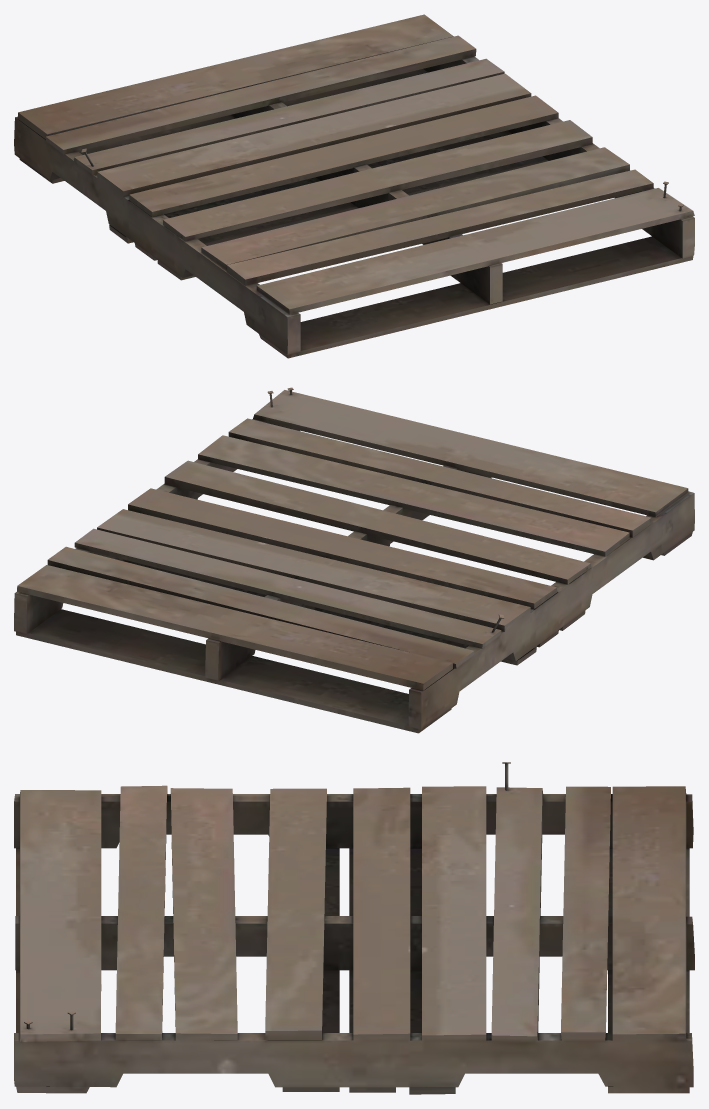
3 views of the same model, one above another, from view 1: azimuth 30°, elevation 25°; view 2: azimuth 150°, elevation 25°; view 3: azimuth 270°, elevation 25° (orthographic). The views are drawn at different scales.
Visible parts, largest first — view 1: body0_model0_lod0_mesh0; view 2: body0_model0_lod0_mesh0; view 3: body0_model0_lod0_mesh0.
Boxes of the visible parts, x1=… form: body0_model0_lod0_mesh0: x1=14, y1=14, x2=694, y2=358; body0_model0_lod0_mesh0: x1=14, y1=387, x2=694, y2=733; body0_model0_lod0_mesh0: x1=14, y1=762, x2=694, y2=1094.
Bounding box in the file's own units: 68.66 × 10.52 × 78.2.
1 material, 1 textured.
